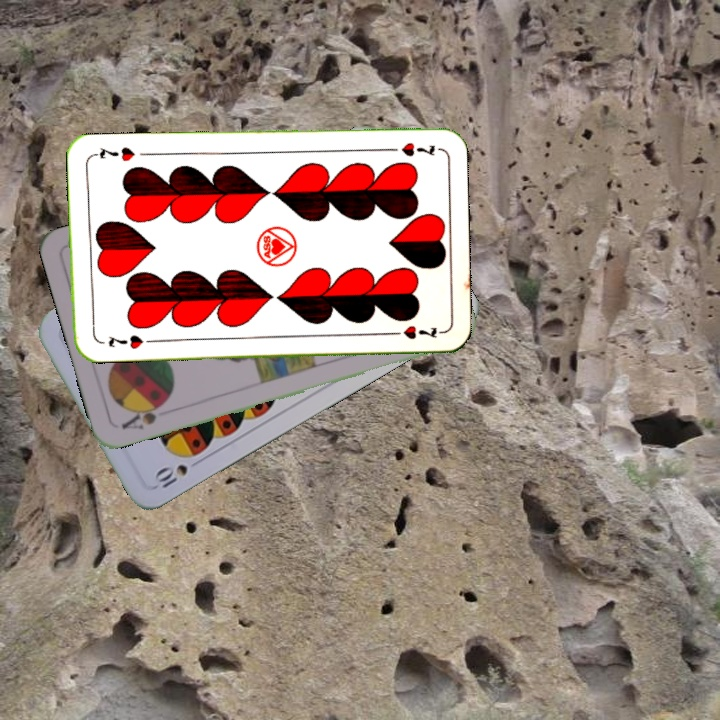H7: (381, 138, 441, 159), (104, 331, 155, 352)
S10: (150, 460, 191, 493)
SA: (117, 397, 170, 432)
